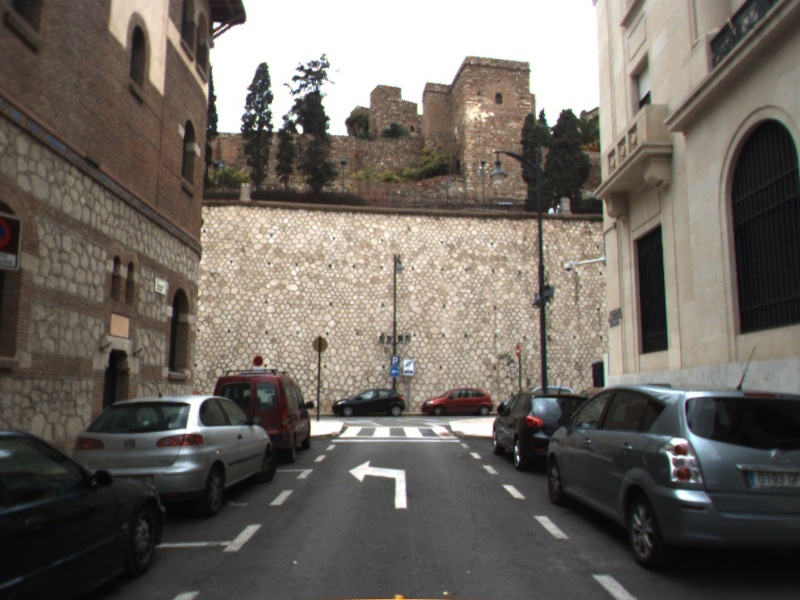LEFT: (347, 458, 409, 510)
